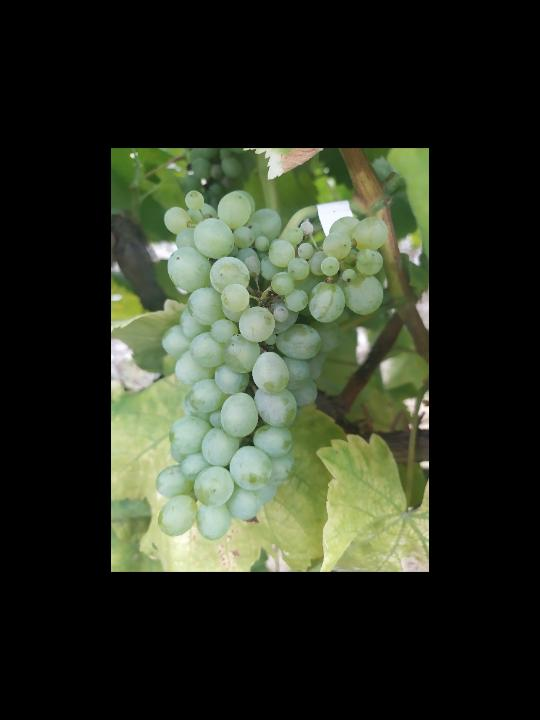grape: (154, 188, 390, 543)
